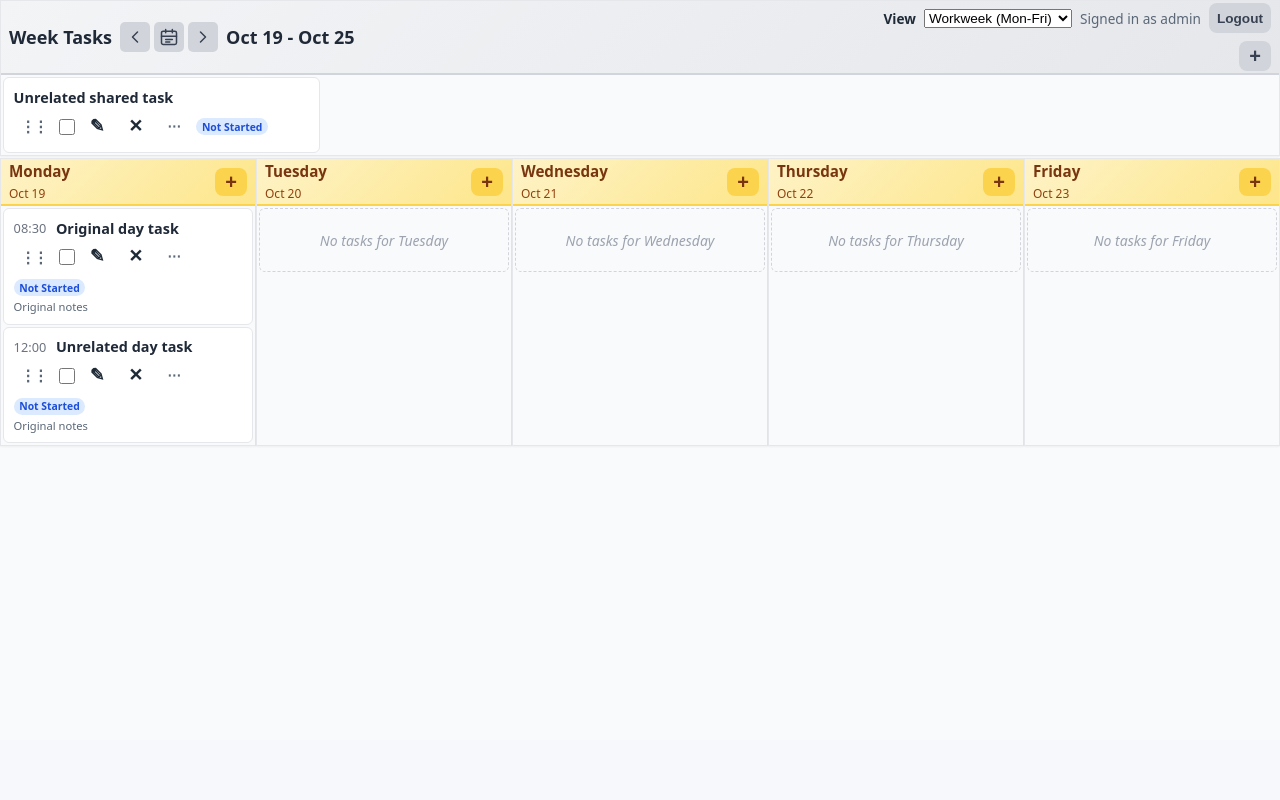
Test case: BoardPage normal task conversion to recurring › still PUTs exactly one task for an ordinary edit with recurring unchecked
The width and height of the screenshot is (1280, 800).
Click the button named "Task 1: Edit task: Original day task".
click(97, 257)  # box [81,242,113,273]
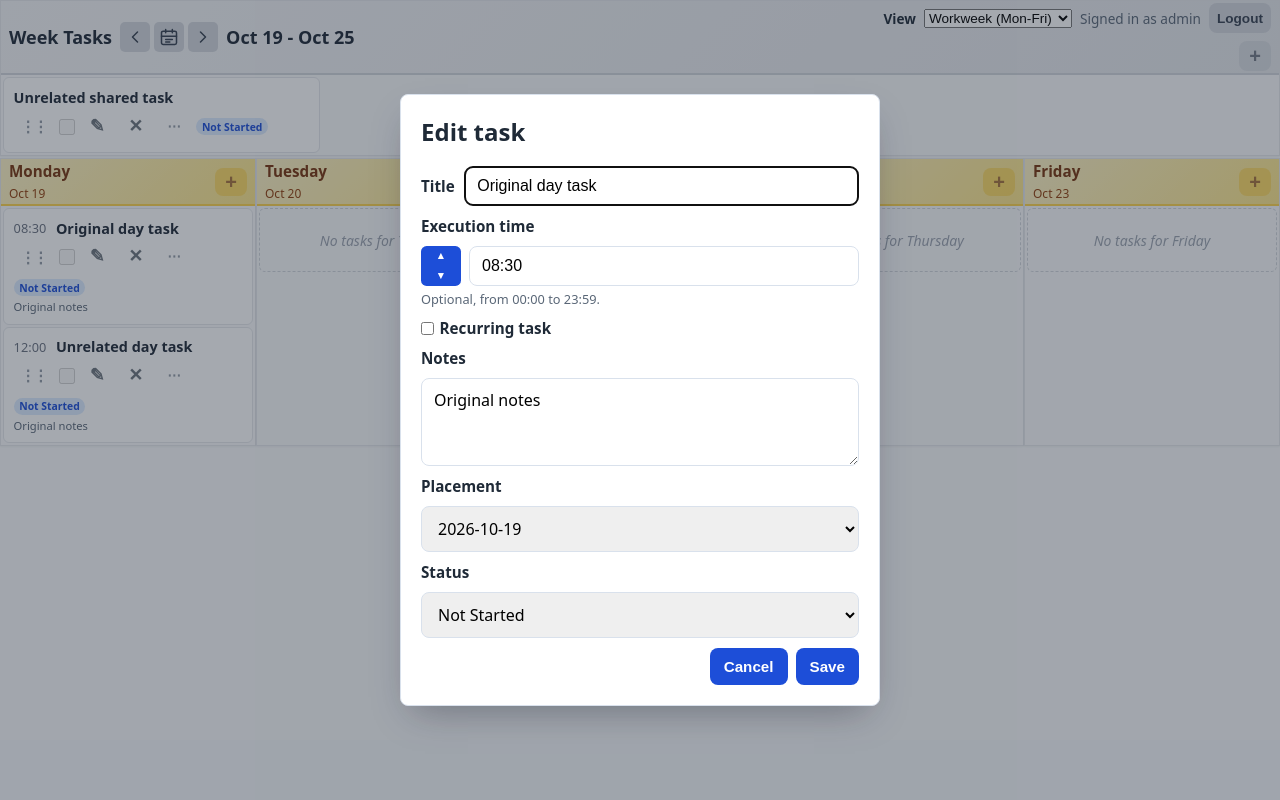
Expected: the checkbox labelled "Recurring task" is not checked, [421,322,434,335]
Replace the text in the field labelled "Title" with "Edited single task" at (662, 186), box [464,166,859,206]
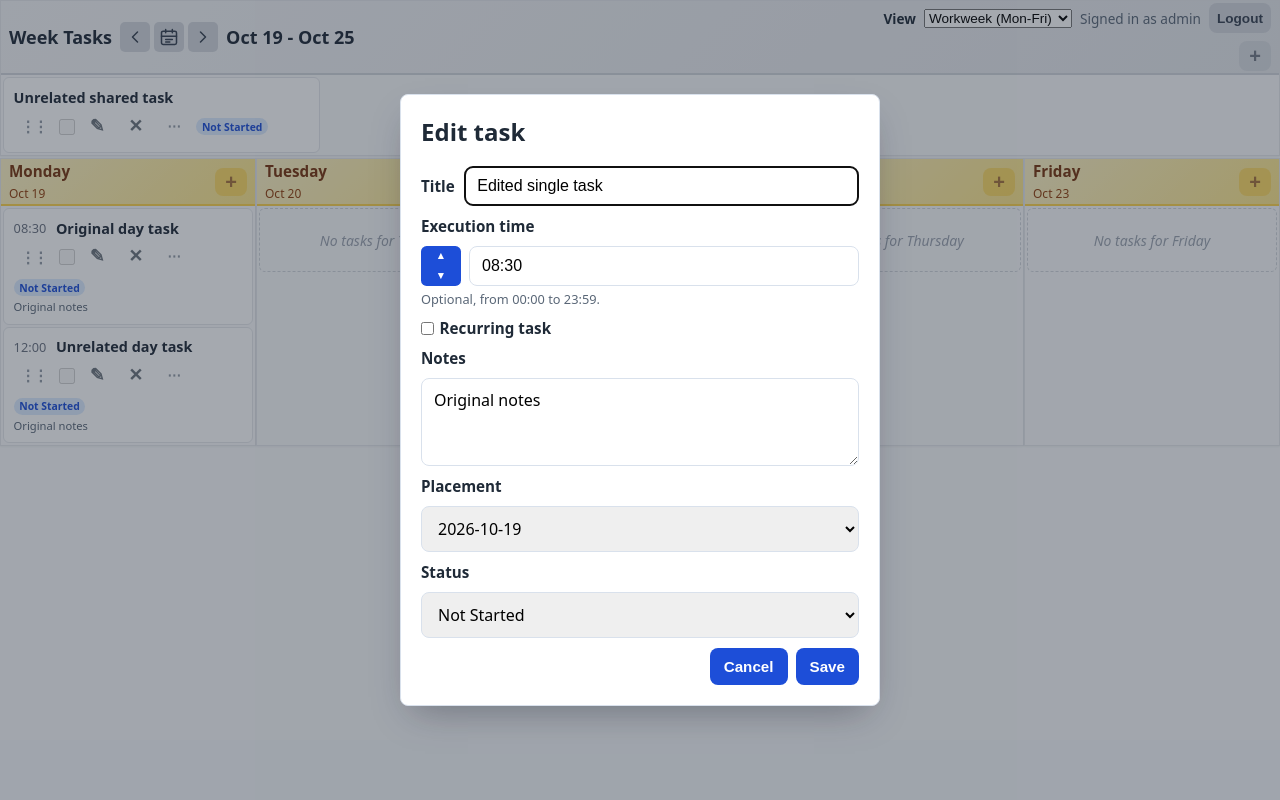
Click the button "Save".
click(827, 667)  # box [796,648,859,685]
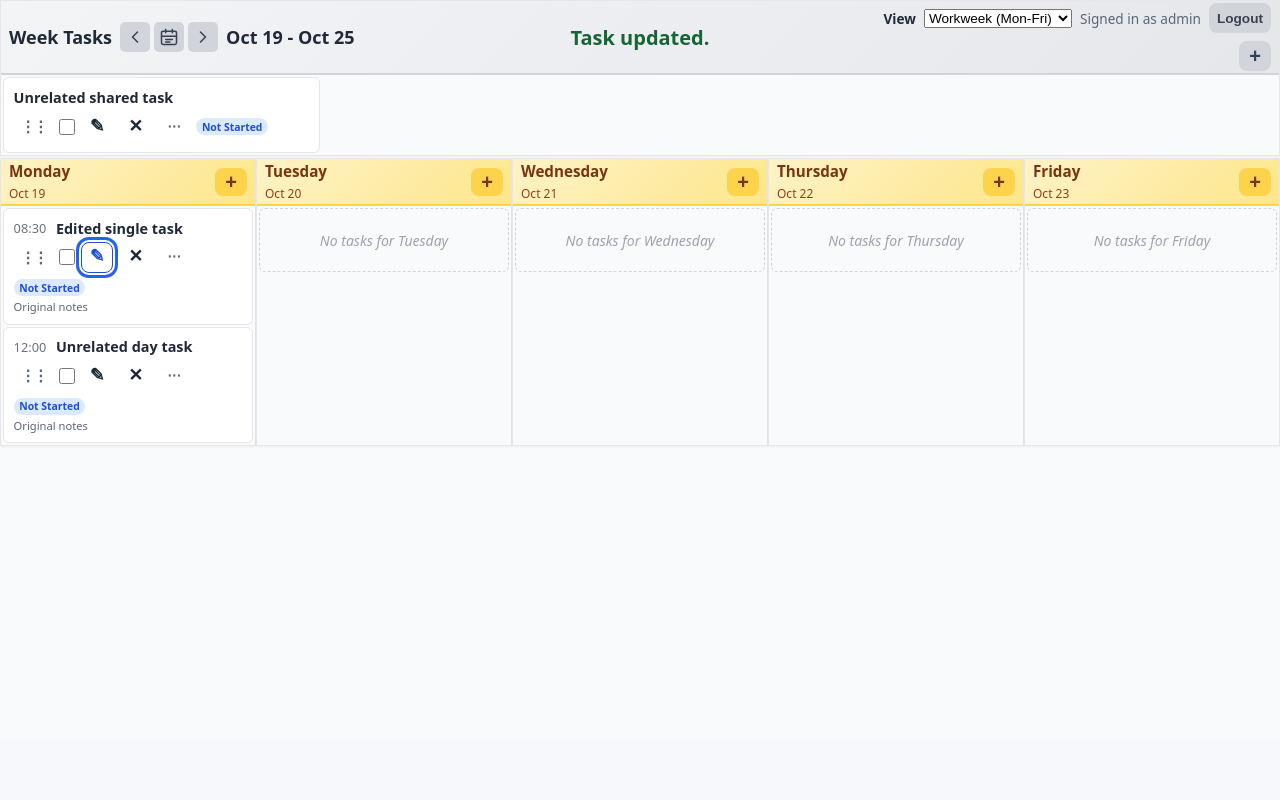
Expected: the heading "Edit task" is gone
Expected: the text "Task updated." is shown, [570,24,710,50]
